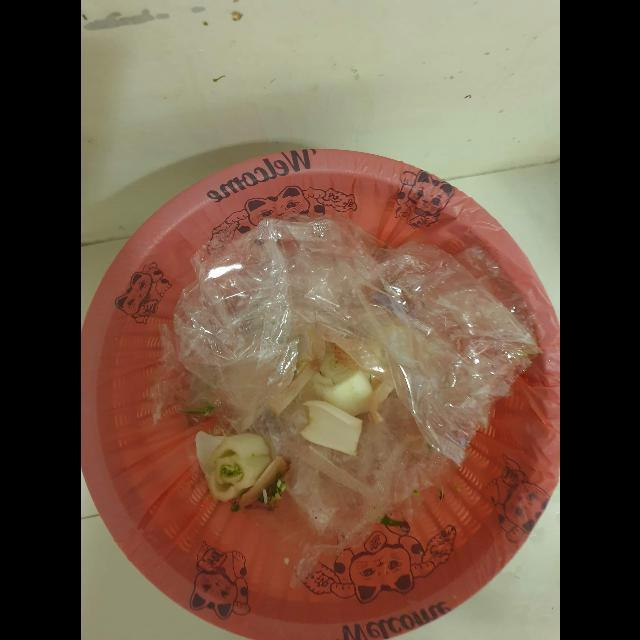plastic_bag: (142, 216, 542, 591)
